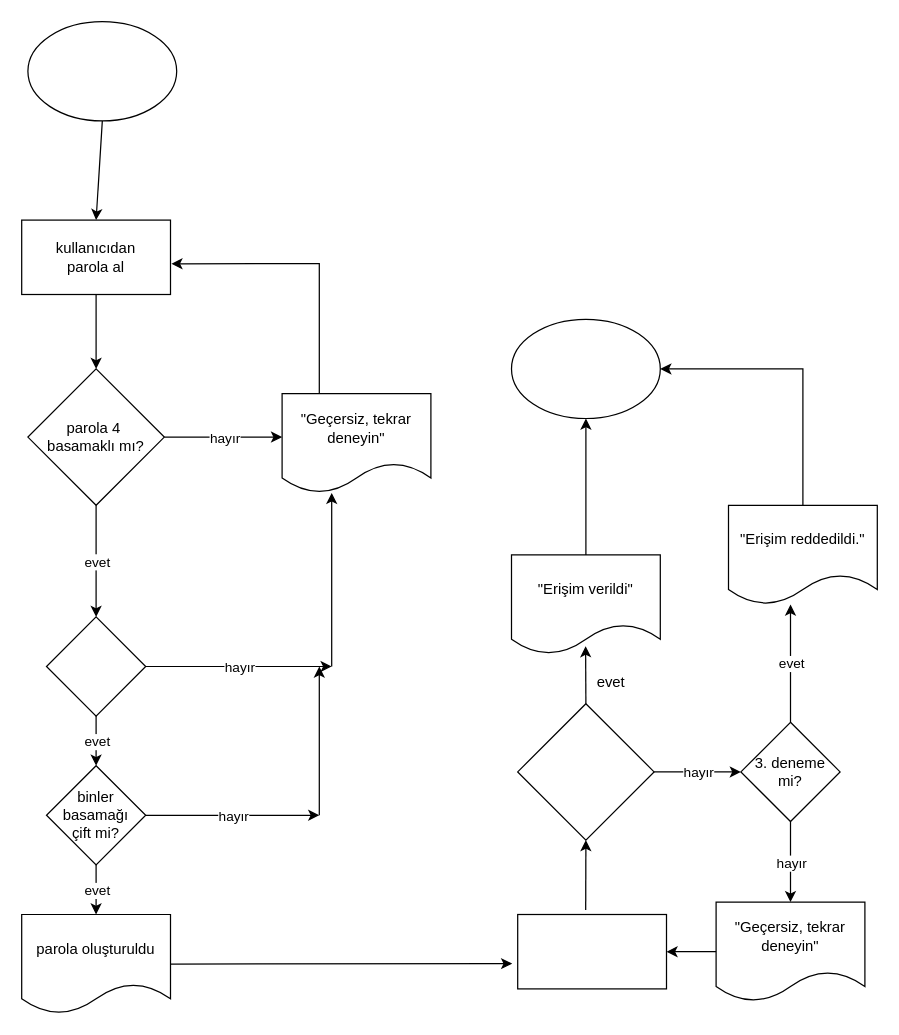
Image size: 899x1035. Some labels were removed from this diagram. The shapes that lost their labels are listed below. From the top down, each one's centre as x and y in pixels, then its label:
(x=102, y=70): başla
(x=585, y=368): bitir
(x=95, y=666): birler basamağı tek mi?
(x=585, y=771): girilen parola oluşturulan parola ile aynı mı?
(x=591, y=951): oluşturulan parolayı girin
